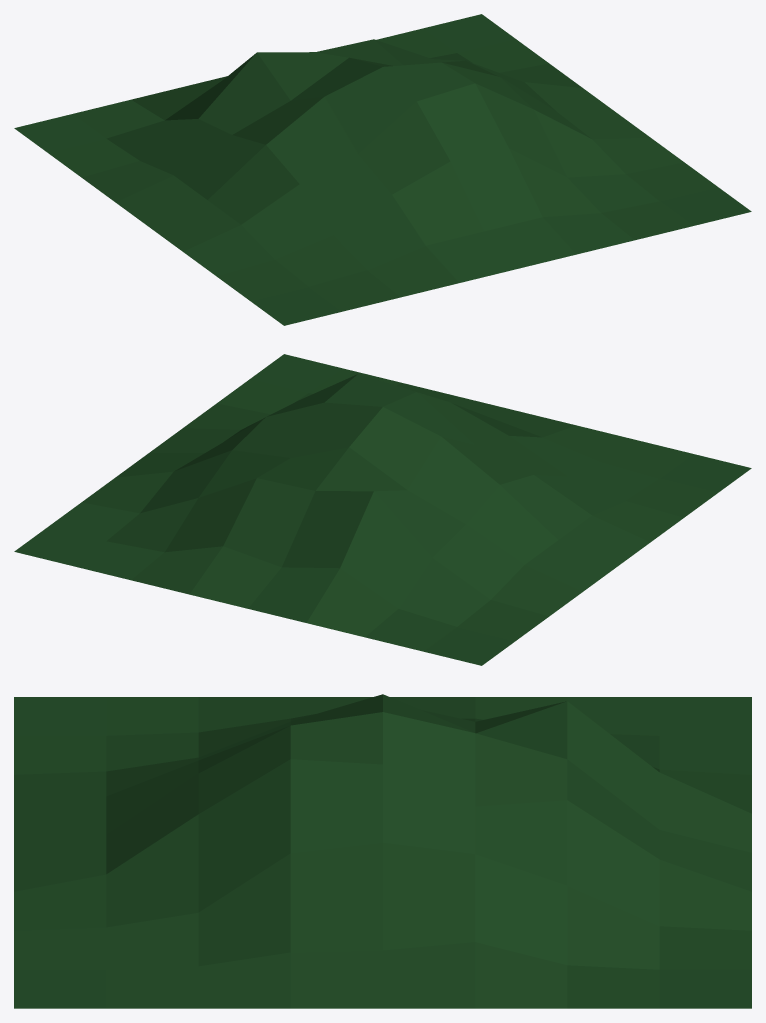
File: Terrain_21_Dark_Green.fbx
The picture shows the model from 3 angles, top to bottom: view 1: azimuth 30°, elevation 25°; view 2: azimuth 150°, elevation 25°; view 3: azimuth 270°, elevation 25°; orthographic projection. The views are drawn at different scales.
Visible parts, largest first — view 1: Terrain_21_Dark_Green; view 2: Terrain_21_Dark_Green; view 3: Terrain_21_Dark_Green.
Boxes of the visible parts, x1,y1,x2,y2 form: Terrain_21_Dark_Green: [14, 14, 751, 325]; Terrain_21_Dark_Green: [14, 354, 751, 665]; Terrain_21_Dark_Green: [14, 694, 751, 1008].
Bounding box in the file's own units: 10000 × 2106 × 10000.
